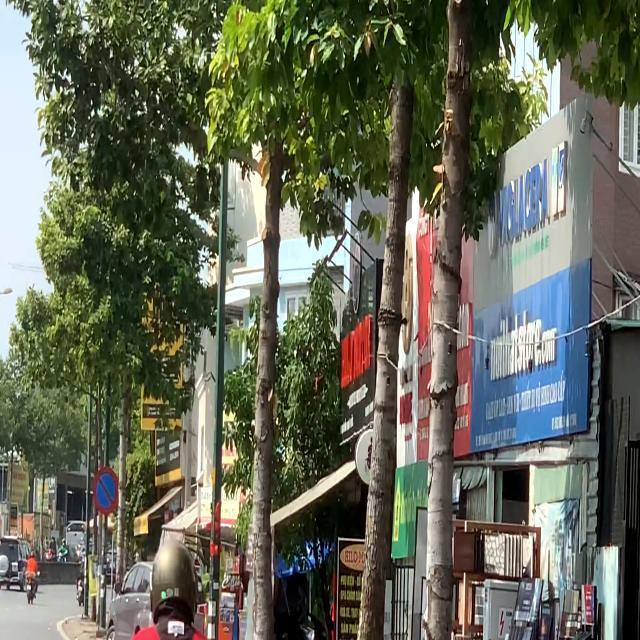131a-cam-do-xe: (92, 468, 120, 514)
